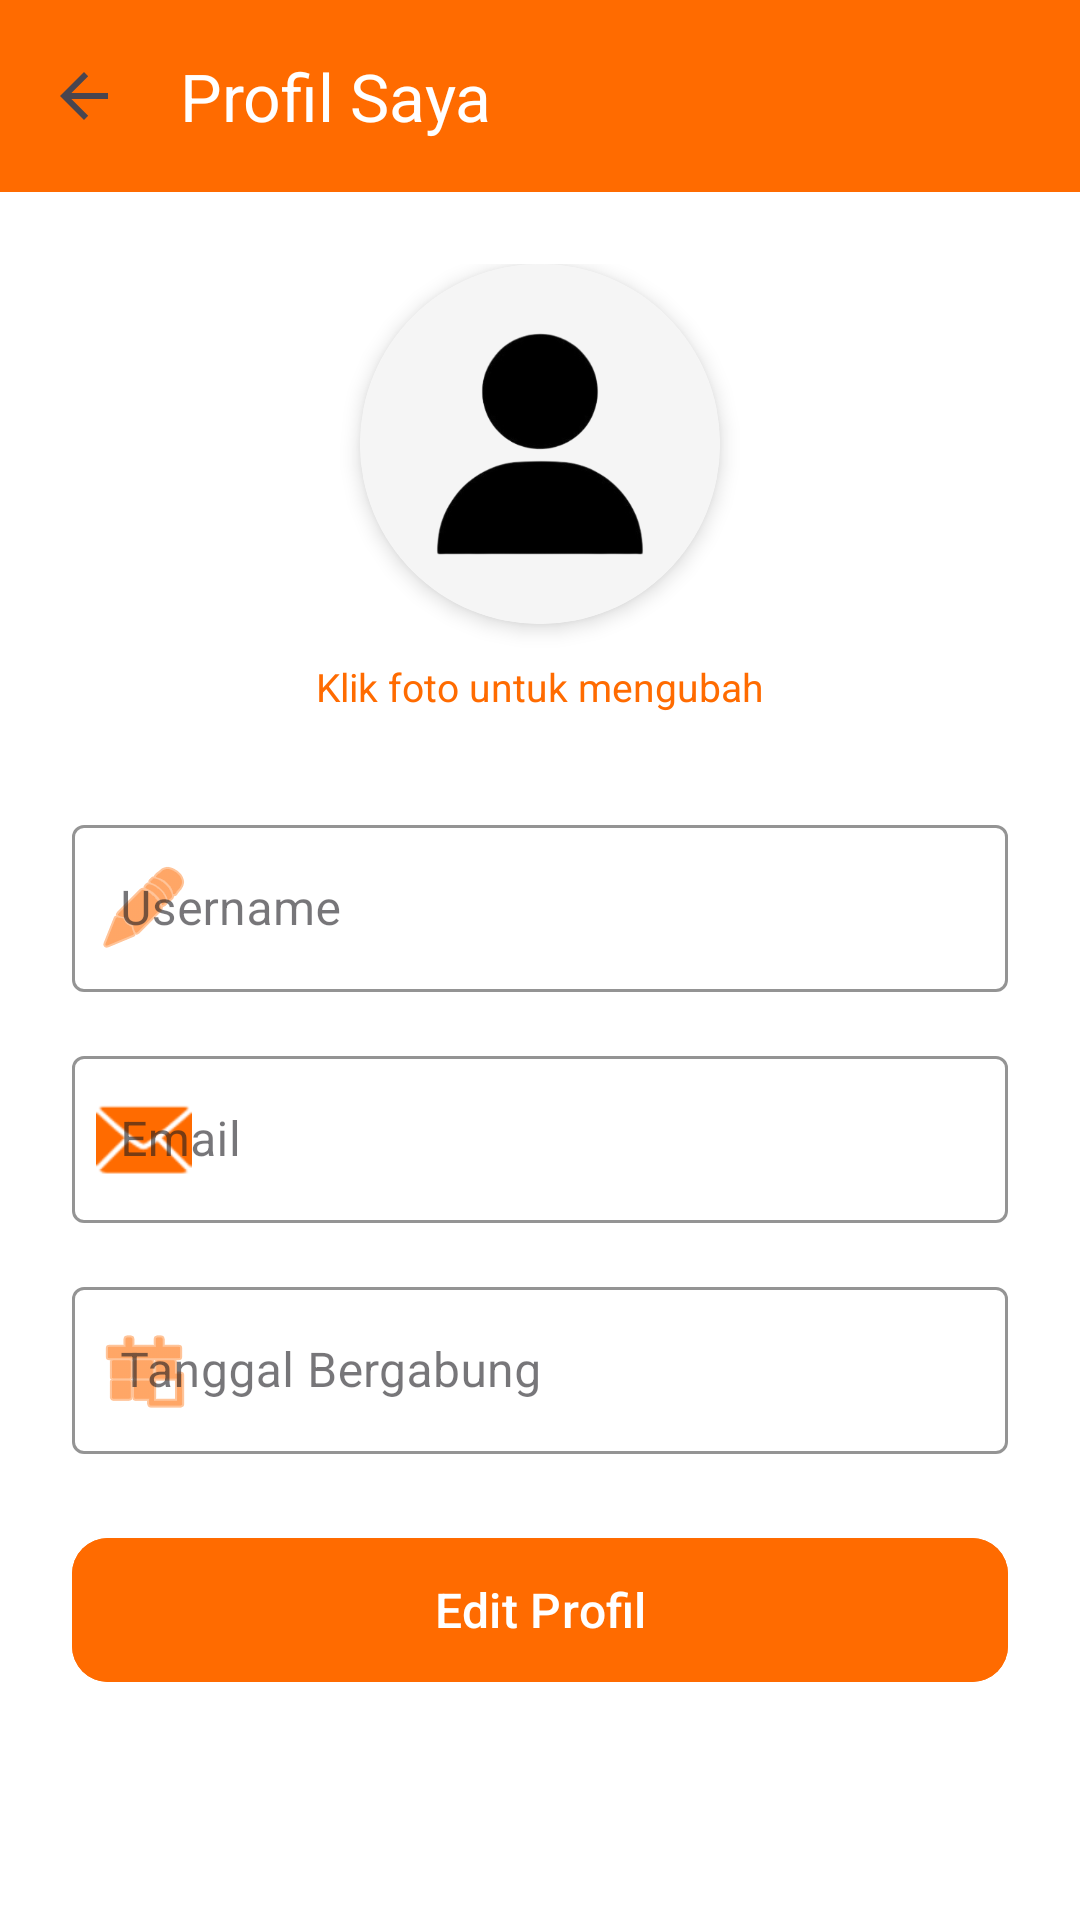

Icon click points for this 1080 × 1920 phone screenshot, format point (x, y):
profile: point (540, 444)
